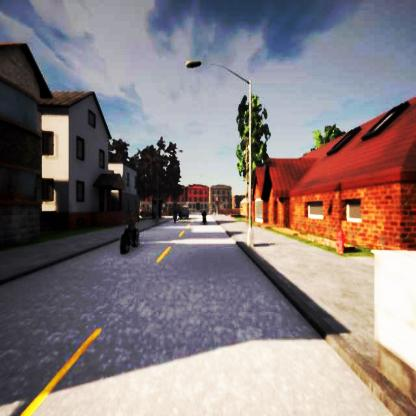motobike: (119, 211, 139, 254)
